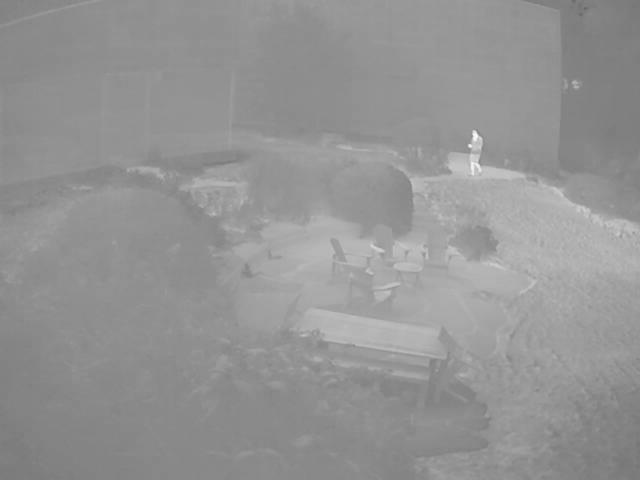person: (468, 126, 484, 176)
